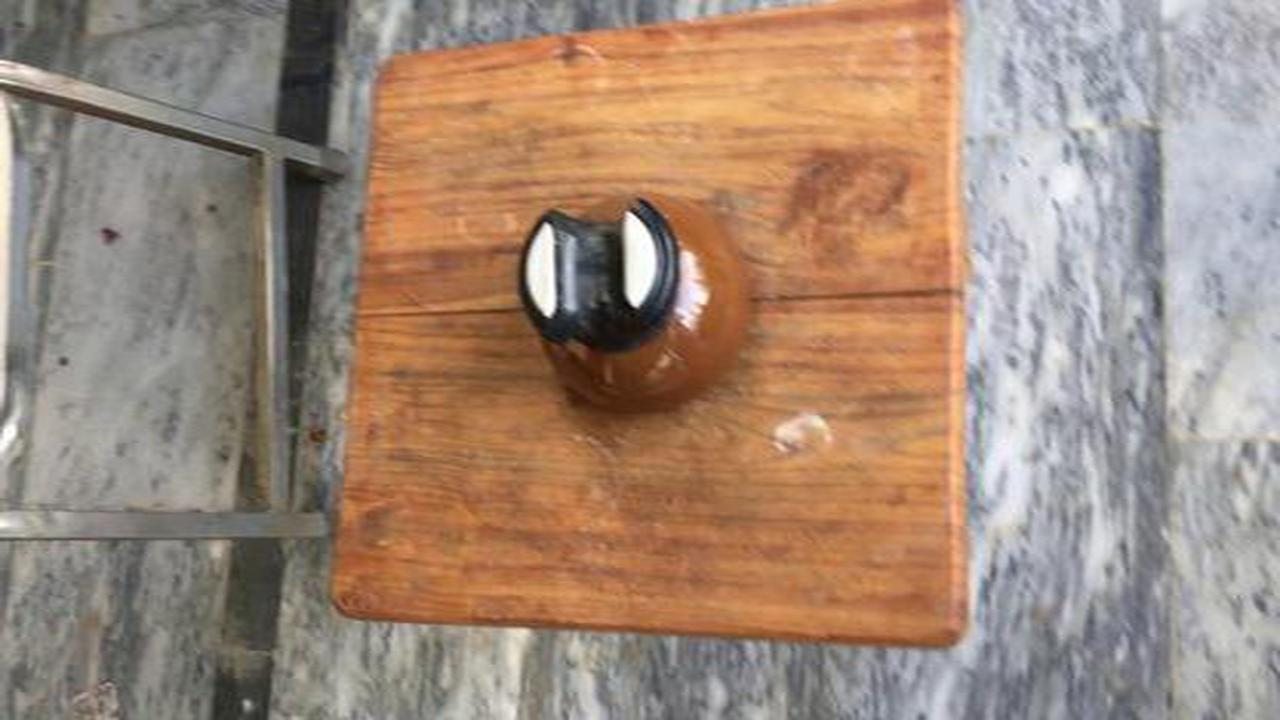insulator_pin: (499, 181, 776, 437)
